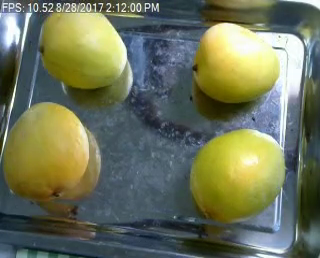Mango: (191, 126, 287, 226), (0, 102, 87, 197), (42, 2, 127, 92), (190, 23, 281, 104)
